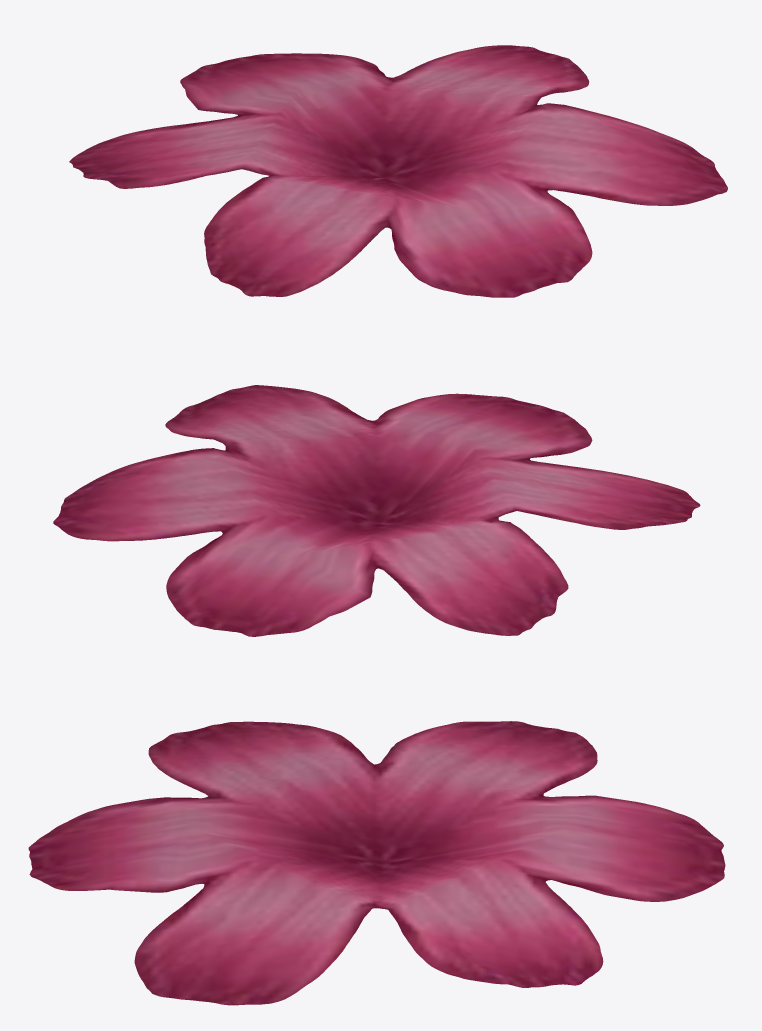
Rendered from flower05.glb.
The picture shows the model from 3 angles, top to bottom: view 1: azimuth 30°, elevation 25°; view 2: azimuth 150°, elevation 25°; view 3: azimuth 270°, elevation 25°; orthographic projection. The views are drawn at different scales.
Visible parts, largest first — view 1: Flower05; view 2: Flower05; view 3: Flower05.
Part boxes in pixels (x1,y1,x2,y2): Flower05: (69,45,727,297); Flower05: (53,385,700,636); Flower05: (28,721,725,1005).
Bounding box in the file's own units: 0.6029 × 0.0375 × 0.6029.
1 material, 1 textured.
